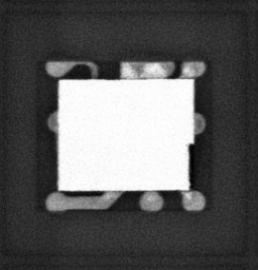DIE_BROKEN: (187, 142, 196, 190)
